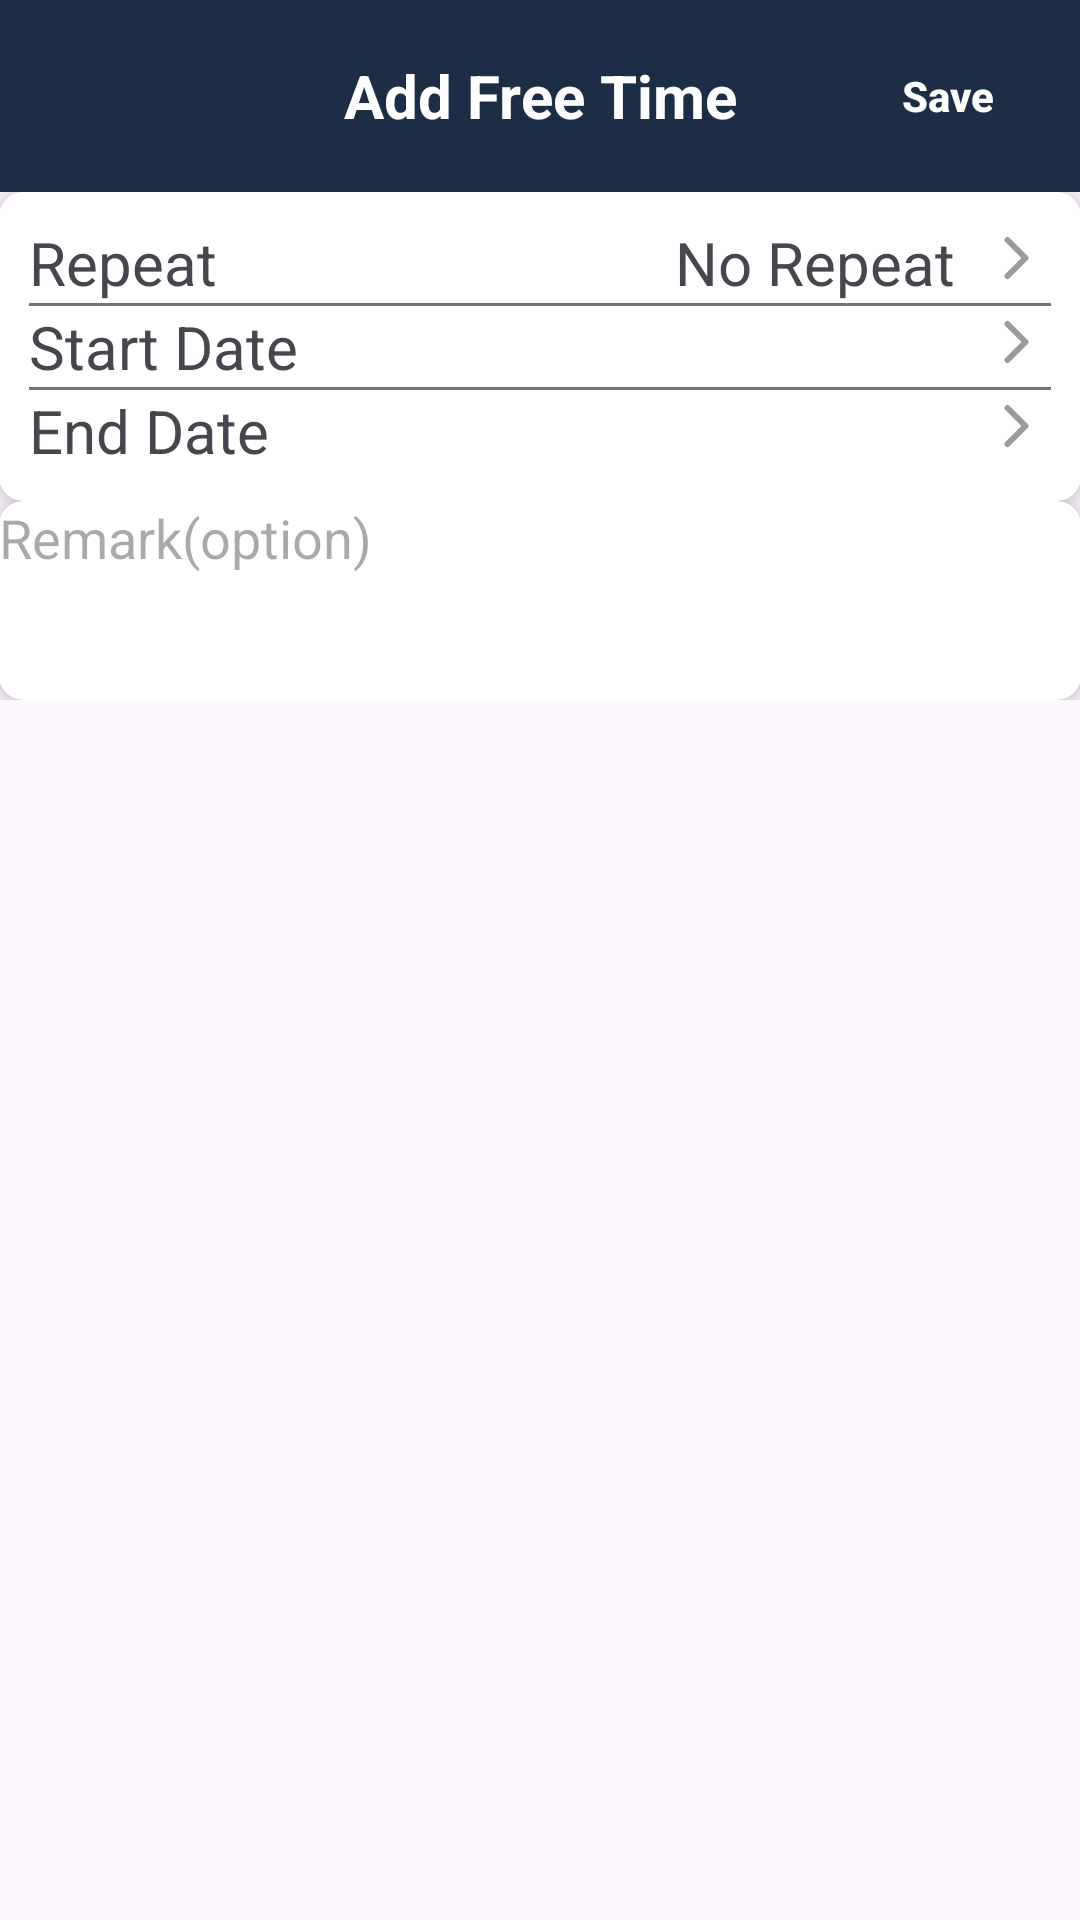

Icons on this 1080*1920 Android screen, each with its box as (x1, y1, x2, y2):
arrow right: (1004, 237, 1029, 279), (1004, 321, 1029, 363), (1004, 405, 1029, 447)
